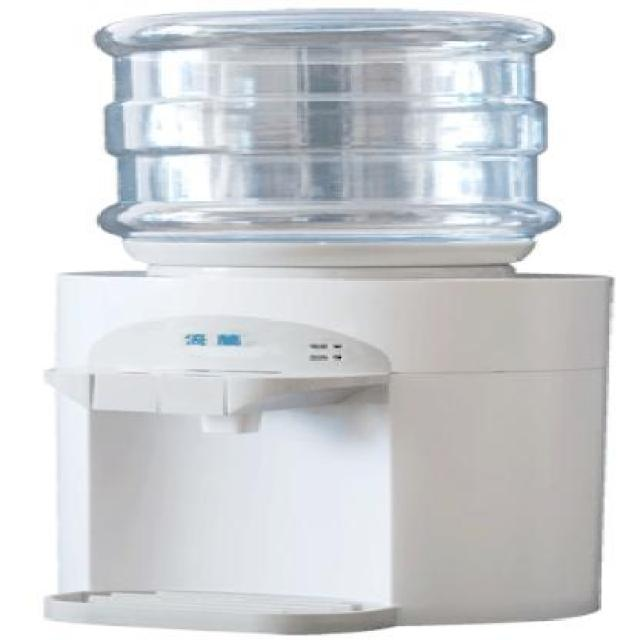cooler: (55, 6, 620, 635)
